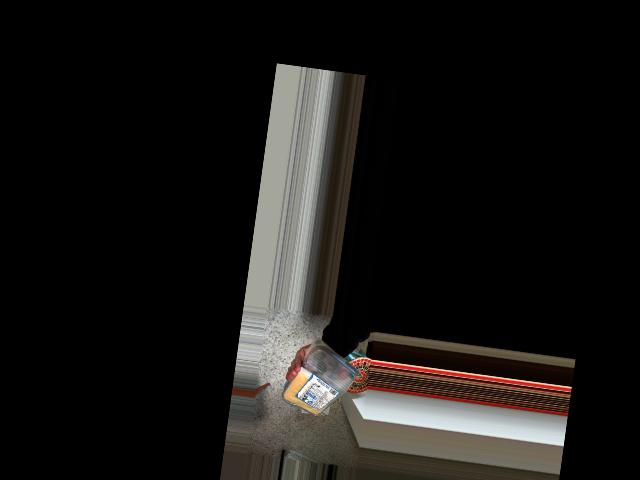cheese: (287, 345, 362, 427)
